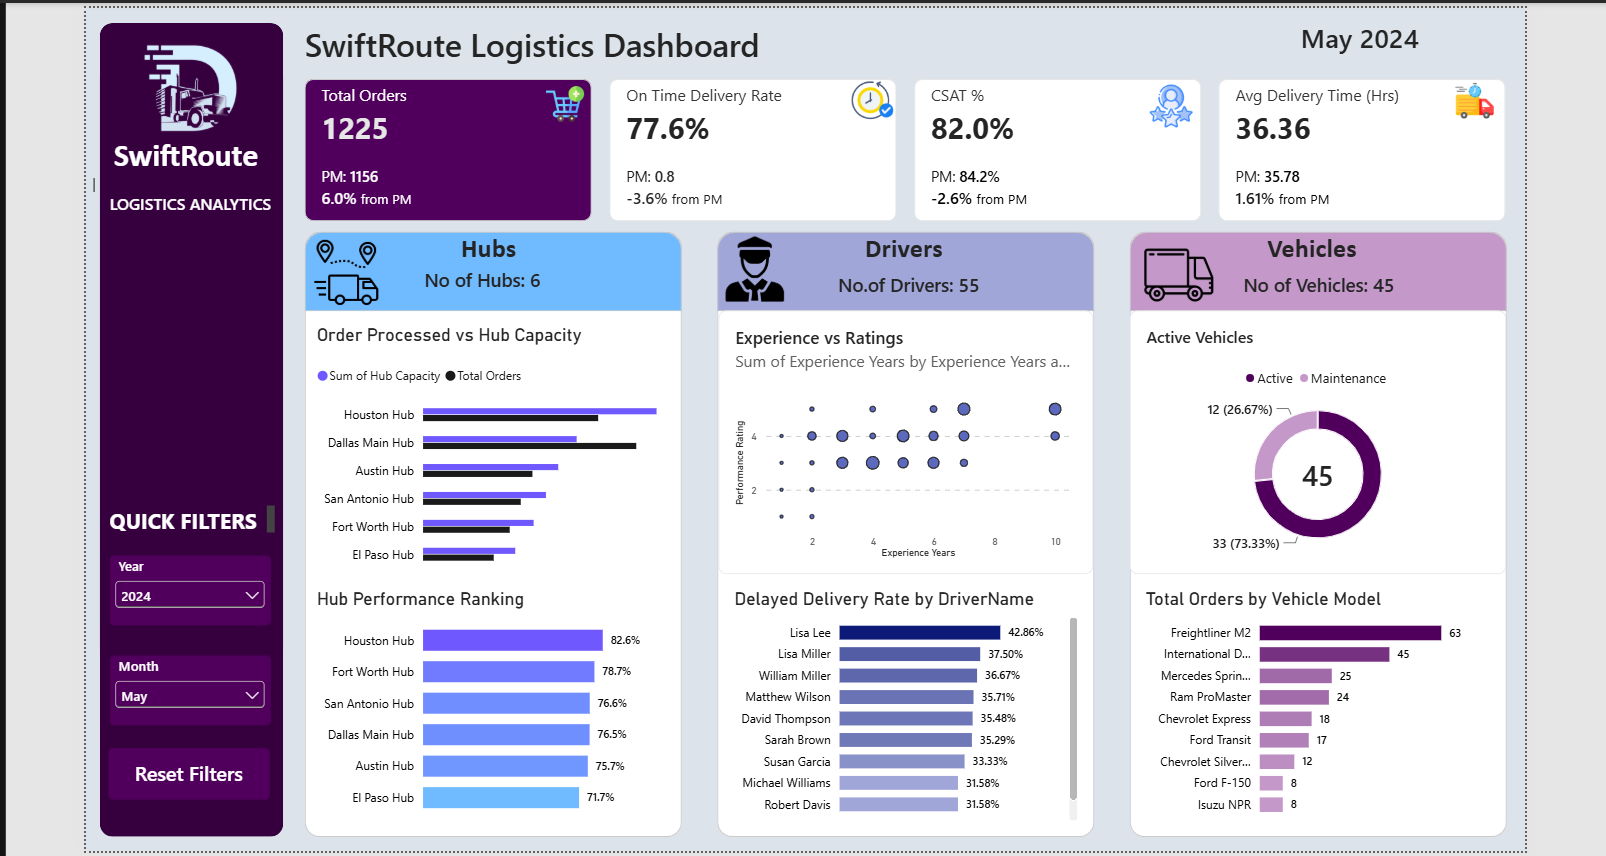

This screenshot's page, from the dashboard's own definition file:
{"tool":"powerbi","page":{"name":"Page 1","canvas":[1450,850],"ordinal":0},"visuals":[{"type":"shape","box":[13.3,15,185,820],"z":0},{"type":"textbox","box":[220,15,505,51.7],"z":1000},{"type":"cardVisual","fields":{"Data":["Orders.Total Orders","Orders.On Time Delivery Rate","Orders.CSAT %","Orders.Avg DElivery Time (Hrs)"]},"box":[220,66.7,1211.7,148.3],"z":2000},{"type":"slicer","fields":{"Values":["Date Table.Year"]},"box":[23.6,551.6,162,70],"z":3000},{"type":"slicer","fields":{"Values":["Date Table.Month"]},"box":[23.6,652.5,162,70],"z":4000},{"type":"shape","box":[220,225,380,610],"z":5000},{"type":"shape","box":[220,225,380,80],"z":6000},{"type":"textbox","box":[262.7,225.4,295.3,48.2],"z":7000},{"type":"cardVisual","fields":{"Data":["Hubs.No. Of Hubs"]},"box":[251.7,245,295,55],"z":8000},{"type":"clusteredBarChart","title":"Order Processed vs Hub Capacity","fields":{"Category":["Hubs.HubName"],"Y":["Sum(Hubs.Hub Capacity)","Orders.Total Orders"]},"box":[216.7,305,386.7,280],"z":9000},{"type":"barChart","title":"Hub Performance Ranking","fields":{"Category":["Hubs.HubName"],"Y":["Orders.On Time Delivery Rate"]},"box":[216.7,570,358.3,265],"z":10000},{"type":"shape","box":[635.8,225.4,380,610],"z":11000},{"type":"shape","box":[635.8,225.4,380,80],"z":12000},{"type":"shape","box":[1052.4,225.4,380,610],"z":13000},{"type":"shape","box":[1052.4,225.4,380,80],"z":14000},{"type":"textbox","box":[676.2,225.4,300,40.4],"z":15000},{"type":"cardVisual","fields":{"Data":["Vehicles.No. Of Vehicles"]},"box":[1094.3,250.3,295,55],"z":16000},{"type":"scatterChart","title":"Experience vs Ratings","fields":{"Size":["Sum(Drivers.Experience Years)1"],"X":["Drivers.Experience Years"],"Y":["Drivers.Performance Rating"]},"box":[637.3,304.7,377.7,265.8],"z":17000},{"type":"clusteredBarChart","fields":{"Category":["Drivers.DriverName"],"Y":["Orders.Delayed Delivery Rate"]},"box":[637.3,570.5,377.7,264.3],"z":18000},{"type":"textbox","box":[1075.7,225.4,314,38.9],"z":19000},{"type":"cardVisual","fields":{"Data":["Drivers.No of Drivers"]},"box":[680.9,250.3,295,55],"z":20000},{"type":"donutChart","title":"Active Vehicles","fields":{"Category":["Vehicles.Vehicle Status"],"Y":["CountNonNull(Vehicles.Vehicle ID)"]},"box":[1052.4,304.7,379.3,265.8],"z":21000},{"type":"clusteredBarChart","fields":{"Category":["Vehicles.Vehicle Model"],"Y":["Orders.Total Orders"]},"box":[1052.4,570.5,379.3,264.3],"z":22000},{"type":"image","box":[23.3,28,164.8,113.5],"z":23000},{"type":"cardVisual","fields":{"Data":["Orders.Year Month Title"]},"box":[1136.7,0,295,55],"z":24000},{"type":"image","box":[463.7,65.9,38.2,61.9],"z":25000},{"type":"image","box":[1072.2,75.1,43.5,46.1],"z":26000},{"type":"image","box":[1376.5,72.4,44.8,40.8],"z":27000},{"type":"image","box":[770.6,71.1,43.5,44.8],"z":28000},{"type":"image","box":[641.5,225.2,65.9,75.1],"z":29000},{"type":"image","box":[227.9,220,68.5,92.2],"z":30000},{"type":"image","box":[1065.6,234.5,71.1,69.8],"z":31000},{"type":"textbox","box":[6.6,129.1,193.6,96.2],"z":32000},{"type":"textbox","box":[12.6,501.2,177.8,27.7],"z":33000},{"type":"actionButton","box":[22.1,745.5,162.3,52],"z":33001}]}

Visuals, with their boxes on the page's 1450x850 design canvas (x1, y1, x2, y2). These are canvas units, not pixel positions in the 1606x856 screenshot, which may show the page scaled, cropped or inside an application window:
shape: x1=13 y1=15 x2=198 y2=835
textbox: x1=220 y1=15 x2=725 y2=67
cardVisual - Orders.Total Orders x Orders.On Time Delivery Rate: x1=220 y1=67 x2=1432 y2=215
slicer - Date Table.Year: x1=24 y1=552 x2=186 y2=622
slicer - Date Table.Month: x1=24 y1=652 x2=186 y2=722
shape: x1=220 y1=225 x2=600 y2=835
shape: x1=220 y1=225 x2=600 y2=305
textbox: x1=263 y1=225 x2=558 y2=274
cardVisual - Hubs.No. Of Hubs: x1=252 y1=245 x2=547 y2=300
"Order Processed vs Hub Capacity" clusteredBarChart: x1=217 y1=305 x2=603 y2=585
"Hub Performance Ranking" barChart: x1=217 y1=570 x2=575 y2=835
shape: x1=636 y1=225 x2=1016 y2=835
shape: x1=636 y1=225 x2=1016 y2=305
shape: x1=1052 y1=225 x2=1432 y2=835
shape: x1=1052 y1=225 x2=1432 y2=305
textbox: x1=676 y1=225 x2=976 y2=266
cardVisual - Vehicles.No. Of Vehicles: x1=1094 y1=250 x2=1389 y2=305
"Experience vs Ratings" scatterChart: x1=637 y1=305 x2=1015 y2=570
clusteredBarChart - Drivers.DriverName x Orders.Delayed Delivery Rate: x1=637 y1=570 x2=1015 y2=835
textbox: x1=1076 y1=225 x2=1390 y2=264
cardVisual - Drivers.No of Drivers: x1=681 y1=250 x2=976 y2=305
"Active Vehicles" donutChart: x1=1052 y1=305 x2=1432 y2=570
clusteredBarChart - Vehicles.Vehicle Model x Orders.Total Orders: x1=1052 y1=570 x2=1432 y2=835
image: x1=23 y1=28 x2=188 y2=142
cardVisual - Orders.Year Month Title: x1=1137 y1=0 x2=1432 y2=55
image: x1=464 y1=66 x2=502 y2=128
image: x1=1072 y1=75 x2=1116 y2=121
image: x1=1376 y1=72 x2=1421 y2=113
image: x1=771 y1=71 x2=814 y2=116
image: x1=642 y1=225 x2=707 y2=300
image: x1=228 y1=220 x2=296 y2=312
image: x1=1066 y1=234 x2=1137 y2=304
textbox: x1=7 y1=129 x2=200 y2=225
textbox: x1=13 y1=501 x2=190 y2=529
actionButton: x1=22 y1=746 x2=184 y2=798
